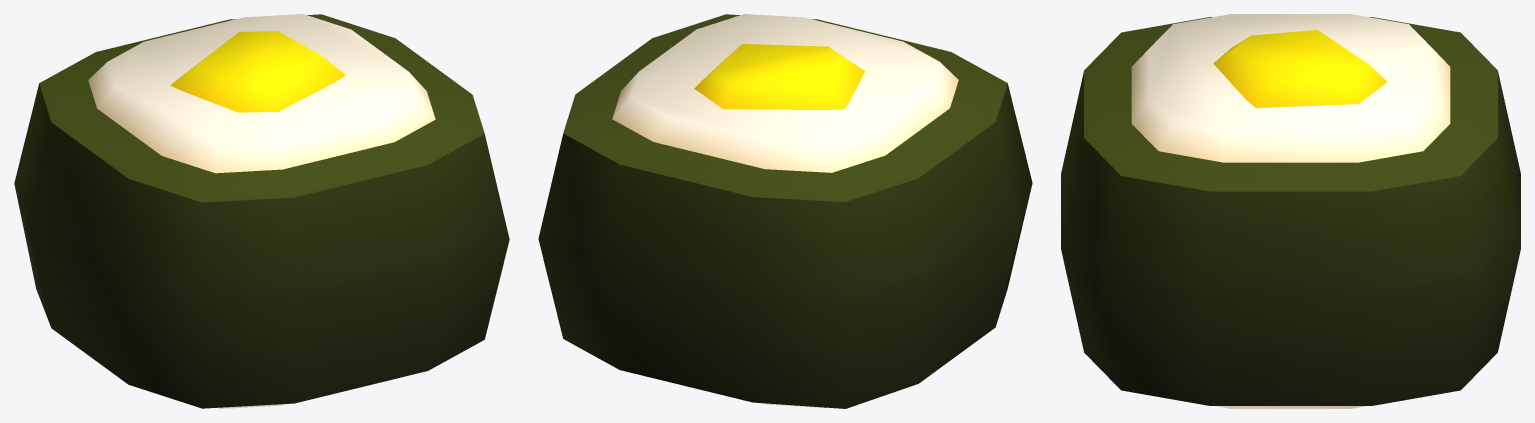
Rendered from Sushi_Small_Nori_002.gltf.
3 views of the same model, side by side, from view 1: azimuth 30°, elevation 25°; view 2: azimuth 150°, elevation 25°; view 3: azimuth 270°, elevation 25° (orthographic). The views are drawn at different scales.
Parts seen in each view (by area): view 1: Sushi_Small_Nori_002_x; view 2: Sushi_Small_Nori_002_x; view 3: Sushi_Small_Nori_002_x.
Boxes of the visible parts, x1=… form: Sushi_Small_Nori_002_x: x1=14, y1=14, x2=509, y2=408; Sushi_Small_Nori_002_x: x1=538, y1=14, x2=1032, y2=408; Sushi_Small_Nori_002_x: x1=1061, y1=14, x2=1520, y2=408.
Size of the model in its own units: 0.6758 by 0.5025 by 0.6758.
1 material, 1 textured.
